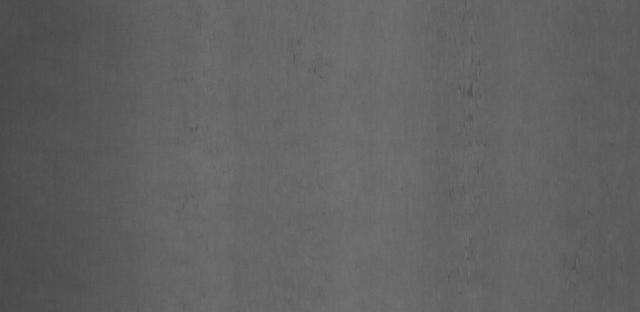silk_spot: (421, 27, 498, 216)
